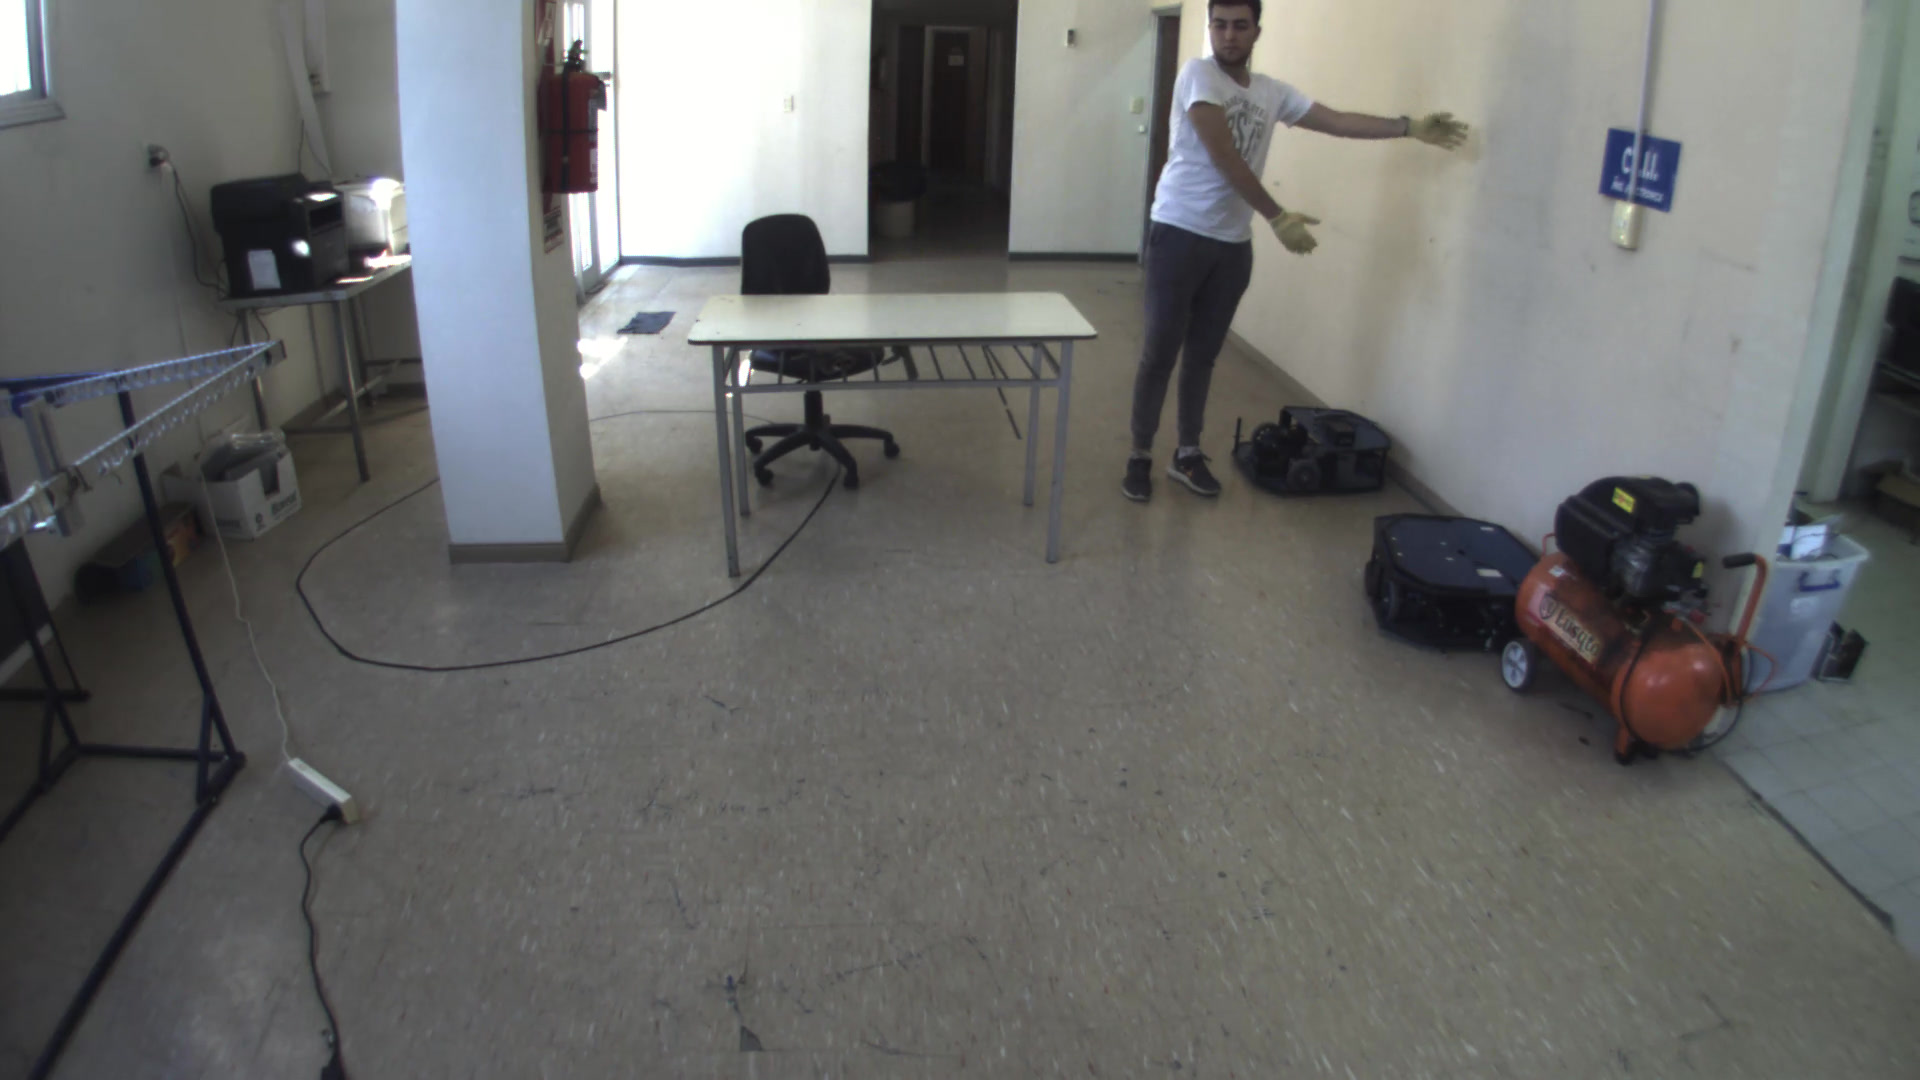hand: (1400, 103, 1485, 160), (1275, 204, 1337, 255)
